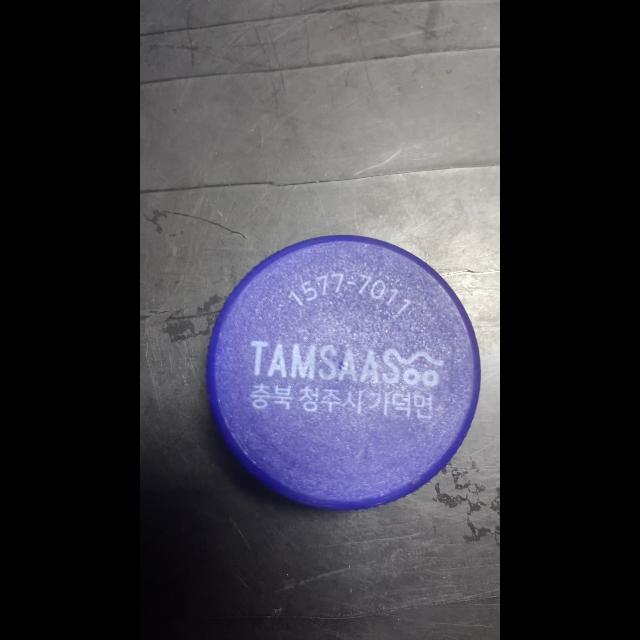plastic_bottle_cap: (199, 228, 486, 522)
